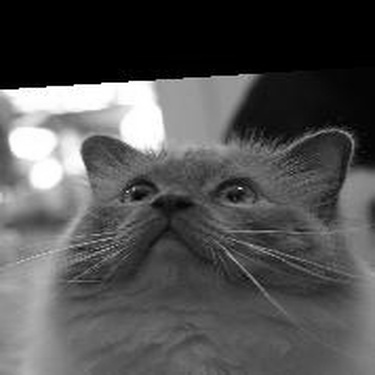cat: (41, 122, 371, 371)
